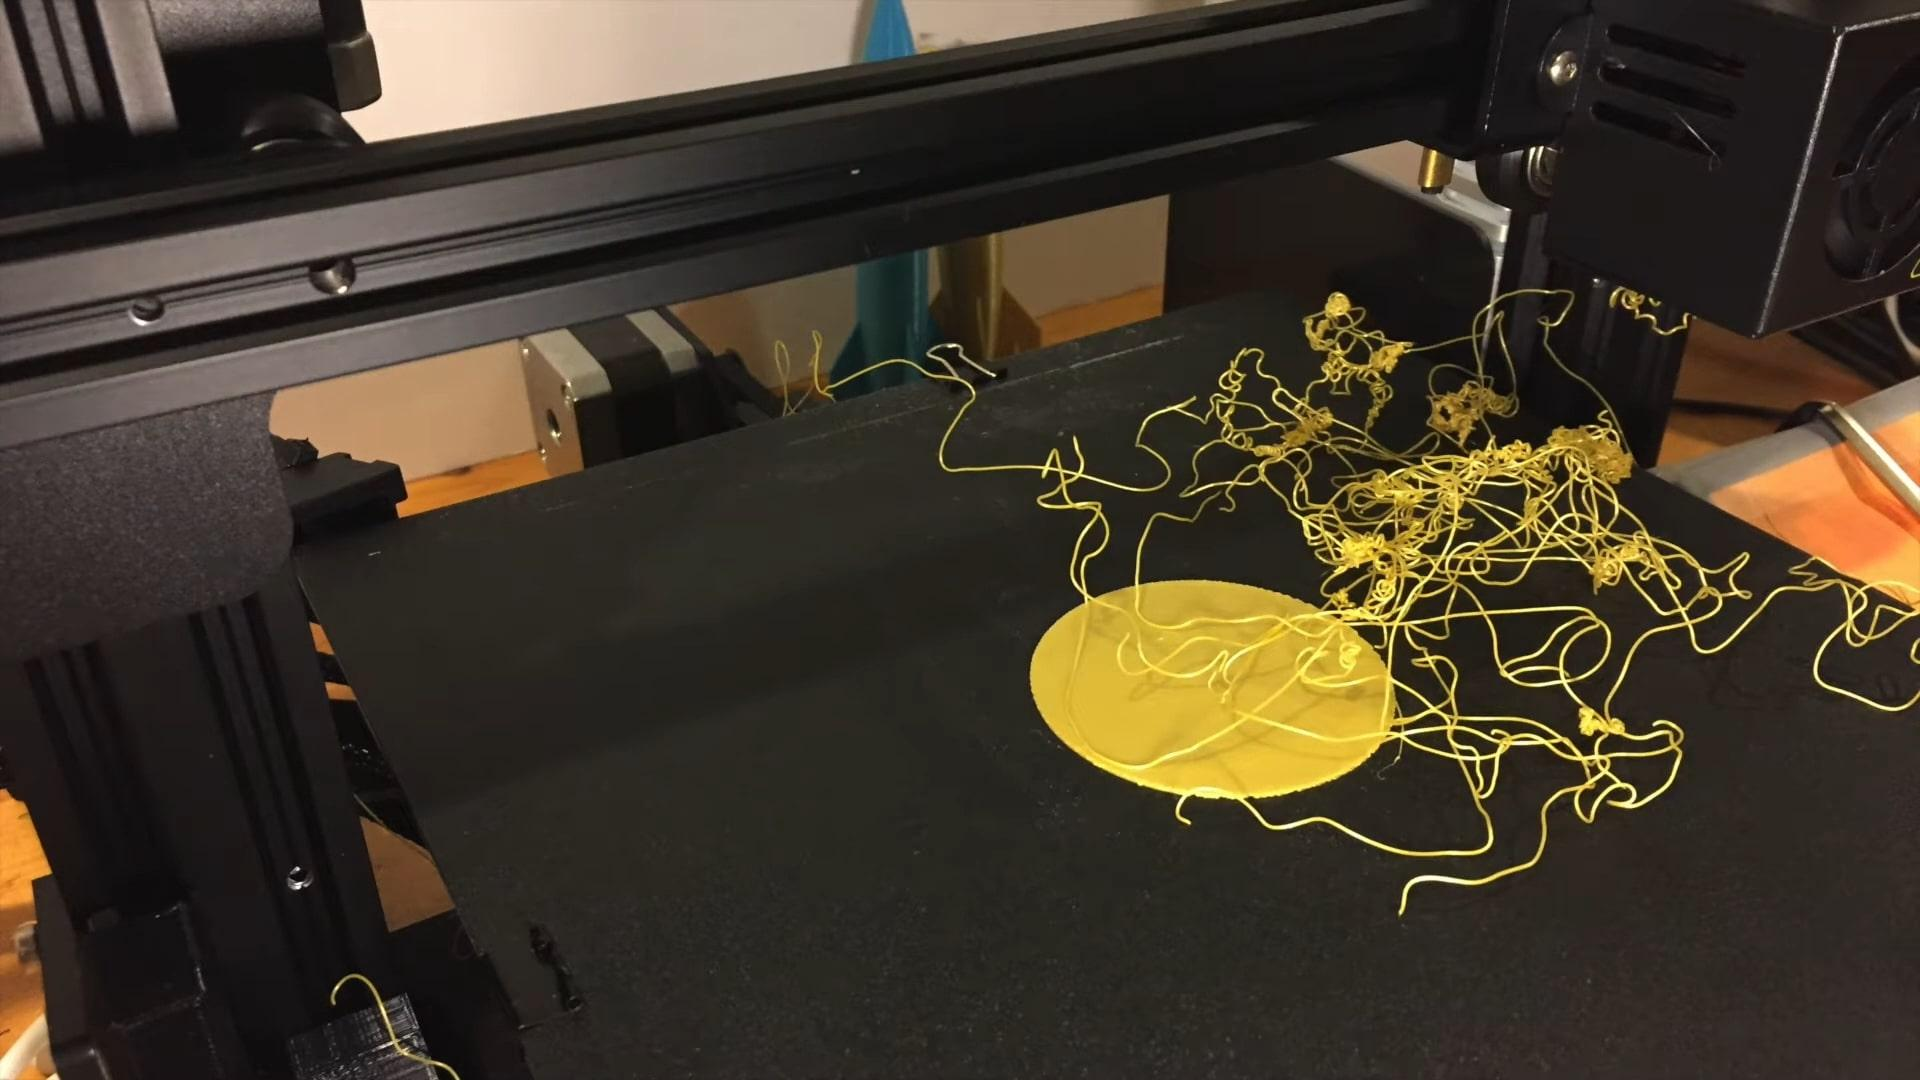Printing-Artifact: (1189, 301, 1766, 918)
